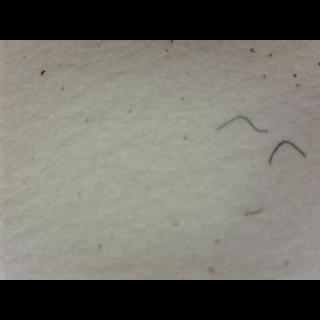Microplastic: (202, 98, 276, 140), (268, 136, 310, 166)
